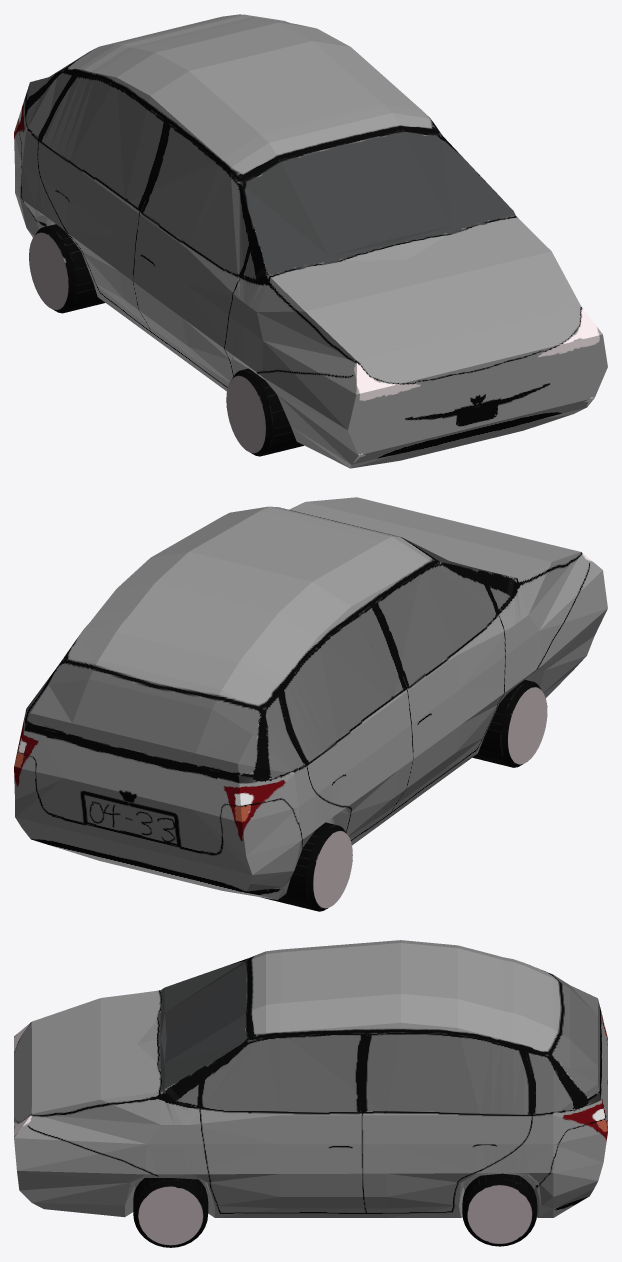
Rendered from puriusu.obj.
The picture shows the model from 3 angles, top to bottom: view 1: azimuth 30°, elevation 25°; view 2: azimuth 150°, elevation 25°; view 3: azimuth 270°, elevation 25°; orthographic projection. The views are drawn at different scales.
Parts seen in each view (by area): view 1: Cube, 円柱.003; view 2: Cube, 円柱.003; view 3: Cube, 円柱.003.
Boxes of the visible parts, left/top/right/bottom form: Cube: left=14, top=14, right=607, bottom=468; 円柱.003: left=29, top=224, right=303, bottom=456; Cube: left=14, top=497, right=607, bottom=899; 円柱.003: left=261, top=680, right=547, bottom=911; Cube: left=14, top=940, right=607, bottom=1217; 円柱.003: left=133, top=1173, right=537, bottom=1247.
Bounding box in the file's own units: 2.3 × 2.05 × 4.94.
Materials: 2 (2 with a texture image).
